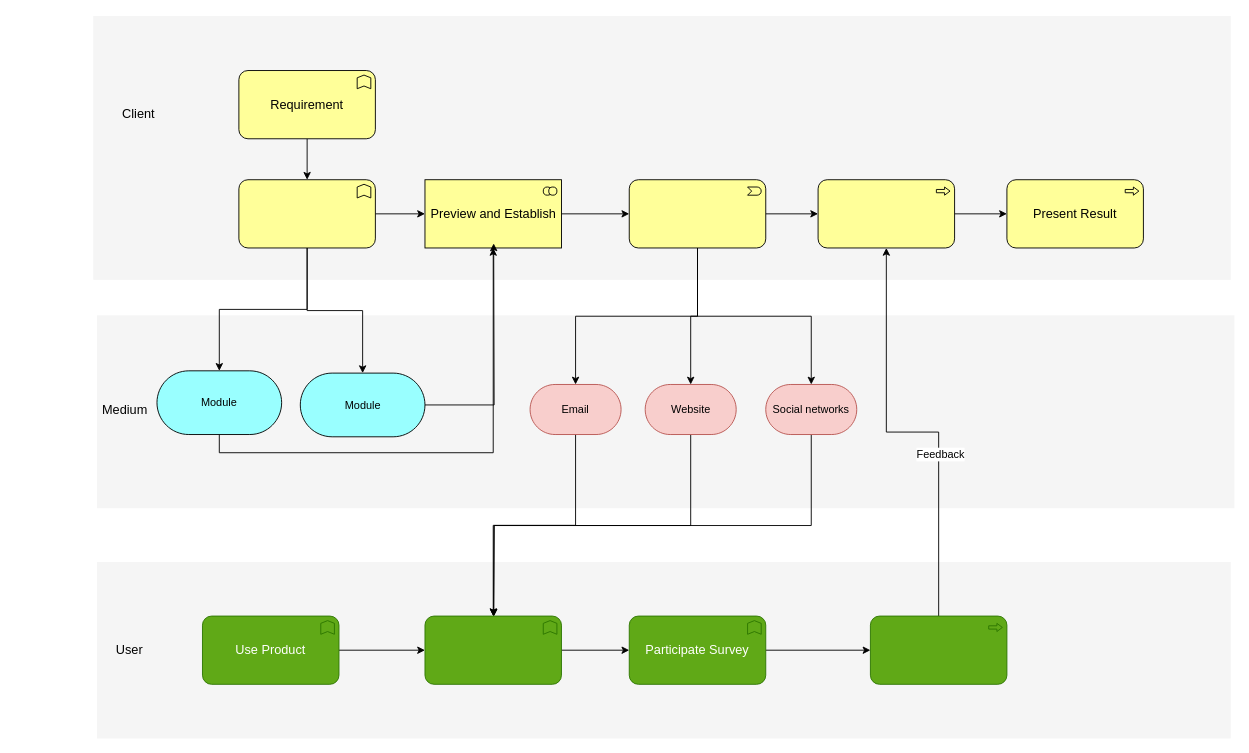
The diagram is 1249 pixels wide and 753 high, and some of its shapes have lost their labels. Each missing label, with the centre of its shape:
"Analyze Result" belongs at (x=886, y=213).
"Design Survey" belongs at (x=306, y=213).
"Finish and Get Reward" belongs at (x=938, y=649).
"Share Survey and Collect Results" belongs at (x=697, y=213).
"Survey Entrance" belongs at (x=492, y=649).
